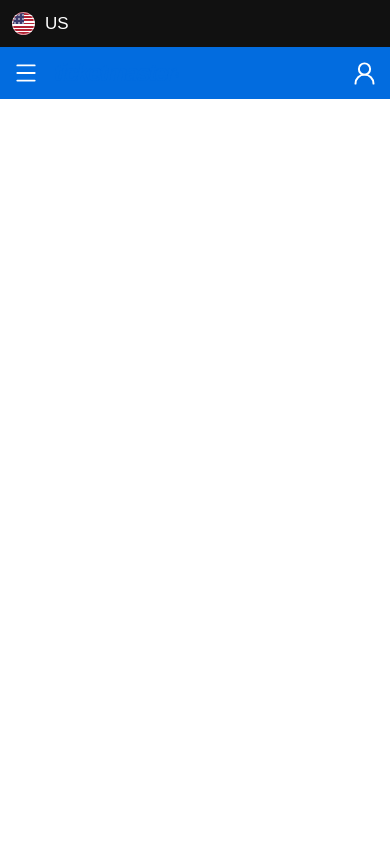
Test: MobileNavigation › opens the drawer with the observed primary navigation labels
Click the button named "Menu". click: coordinates (26, 73)
box: [4,51,48,95]
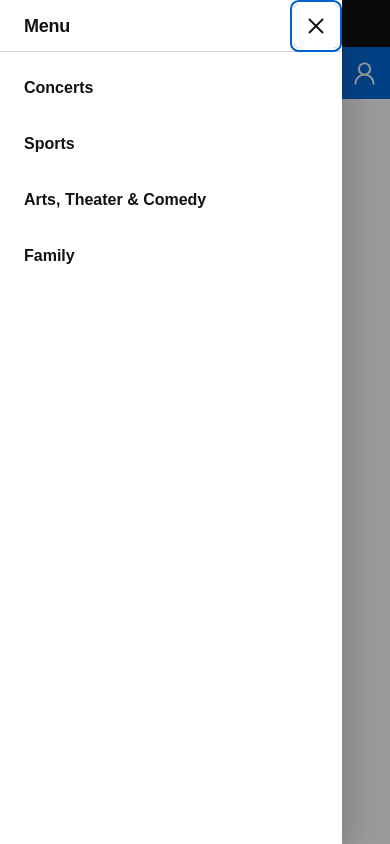
Now the button named "Menu" is expanded, box [4,51,48,95]
Now the buttons read "Concerts", "Sports", "Arts, Theater & Comedy", "Family", in this order, box [0,60,342,116]; [0,116,342,172]; [0,172,342,228]; [0,228,342,284]
